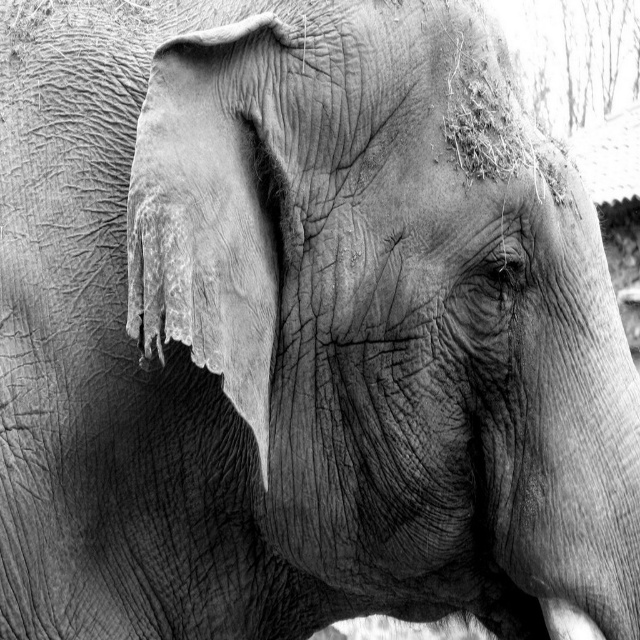Elephant: (51, 11, 630, 640)
